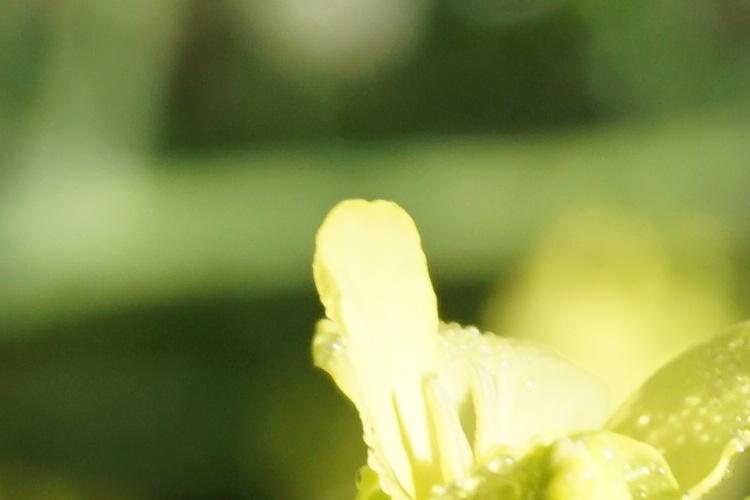yellow: (295, 205, 746, 496)
